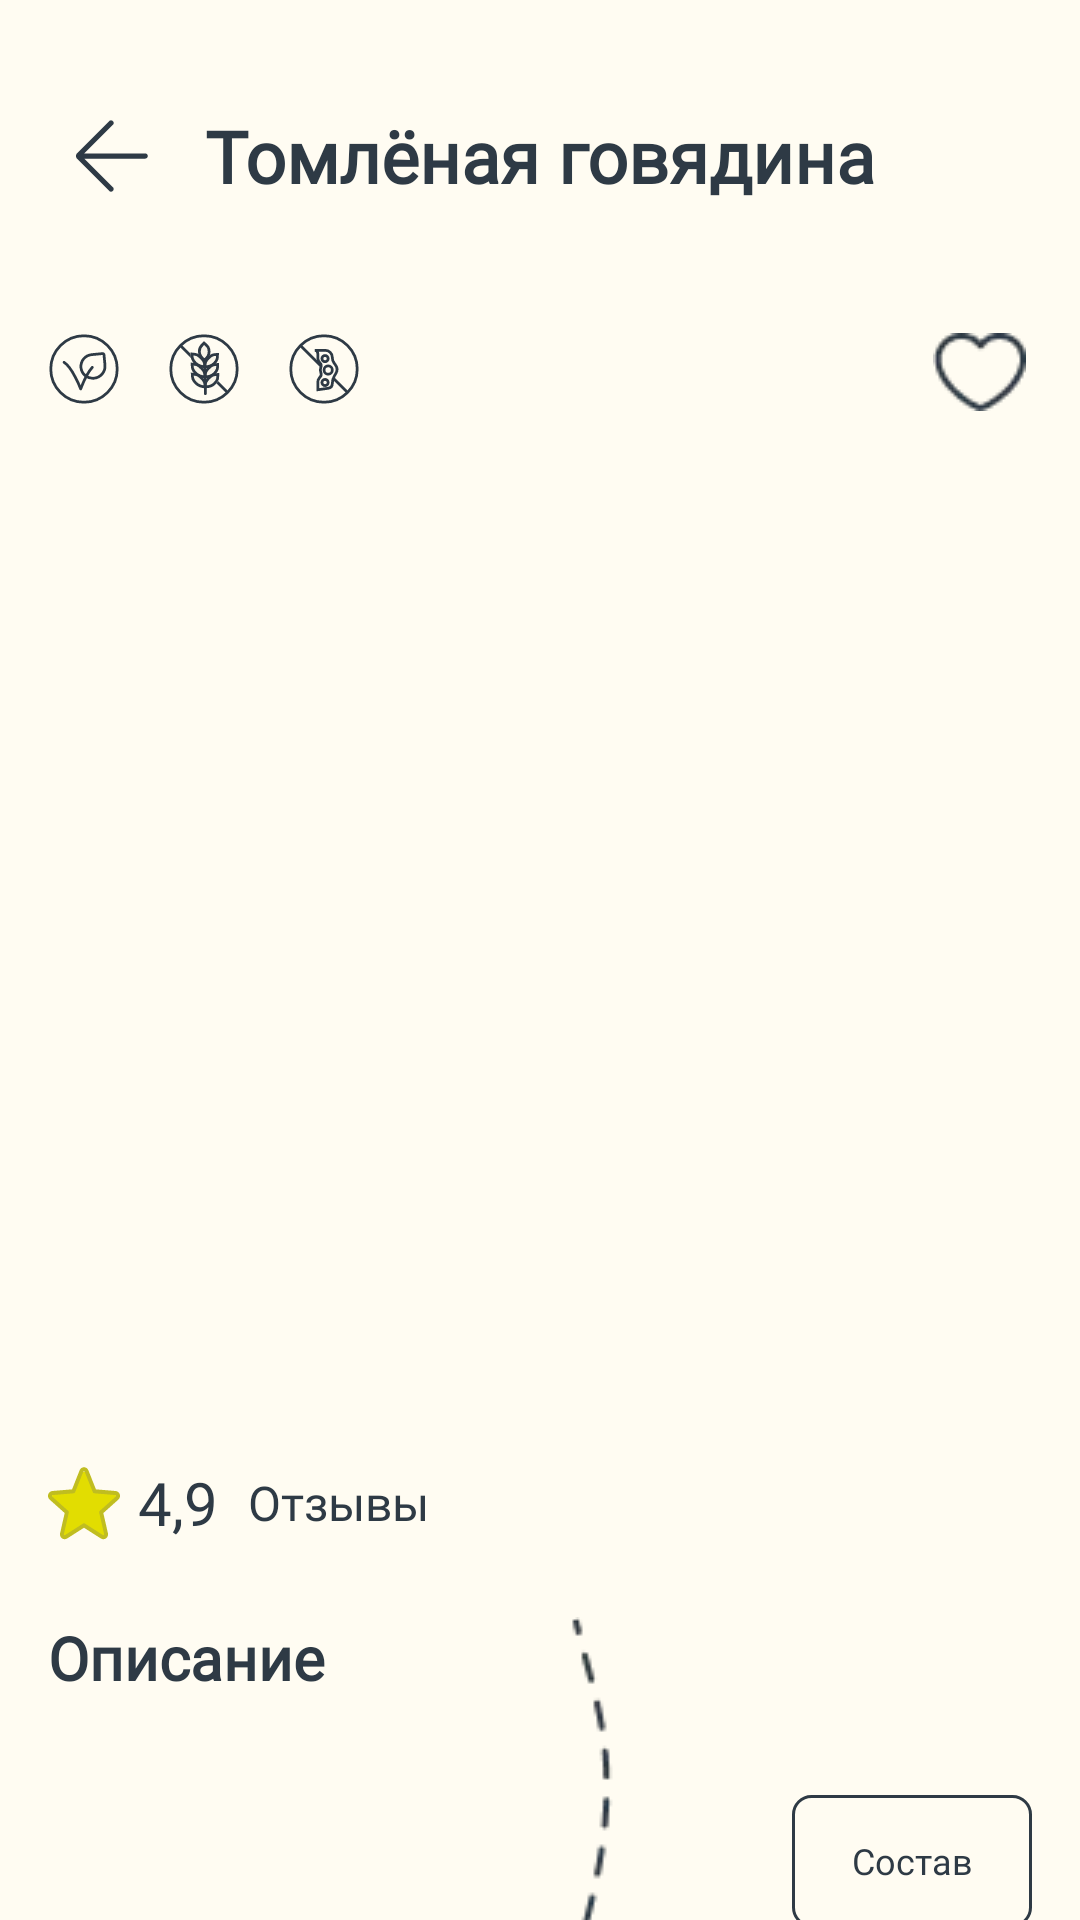

Named icons in this screenshot (1080x1920) and their centers, (x=x, y=y):
like: (x=979, y=372)
rating: (x=84, y=1503)
